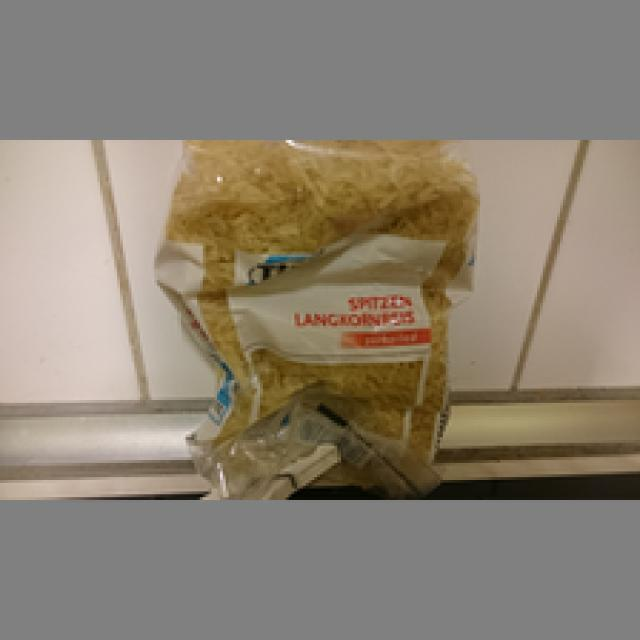groceries: (146, 134, 477, 494)
